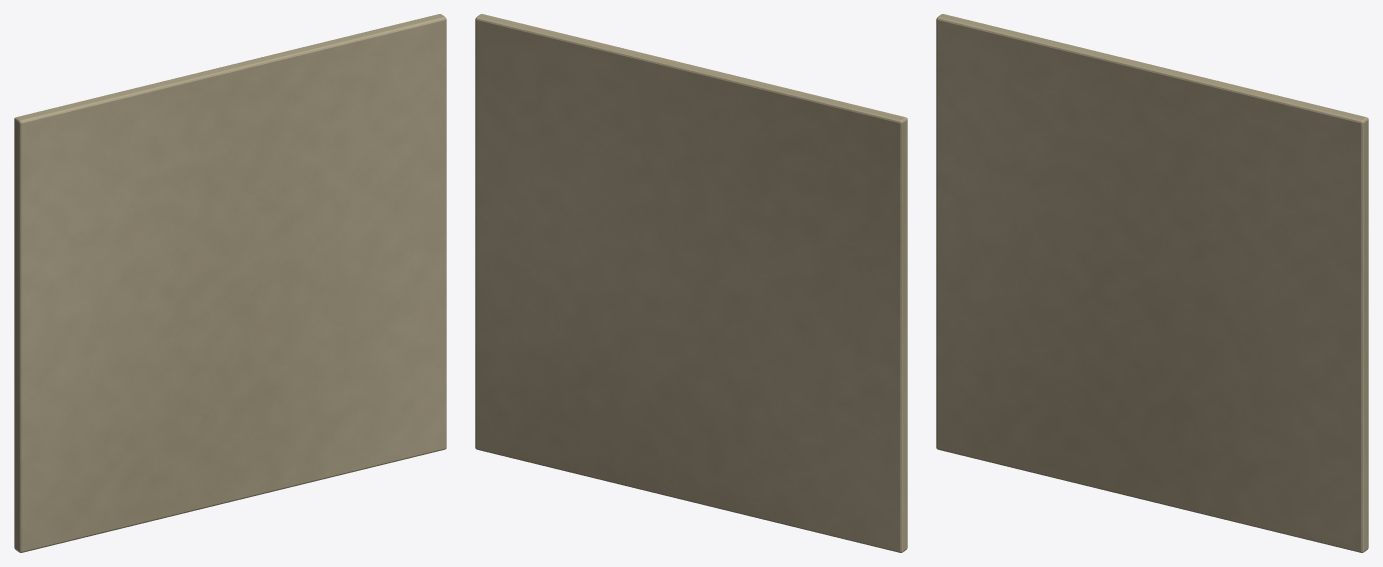
Rendered from dinding.glb.
The picture shows the model from 3 angles, left to right: view 1: azimuth 30°, elevation 25°; view 2: azimuth 150°, elevation 25°; view 3: azimuth 330°, elevation 25°; orthographic projection.
Parts seen in each view (by area): view 1: dinding; view 2: dinding; view 3: dinding.
Boxes of the visible parts, x1,y1,x2,y2 form: dinding: (14,14,446,552); dinding: (475,14,907,552); dinding: (936,14,1368,552).
Size of the model in its own units: 3 by 2.9 by 0.08.
Materials: 1 (1 with a texture image).
